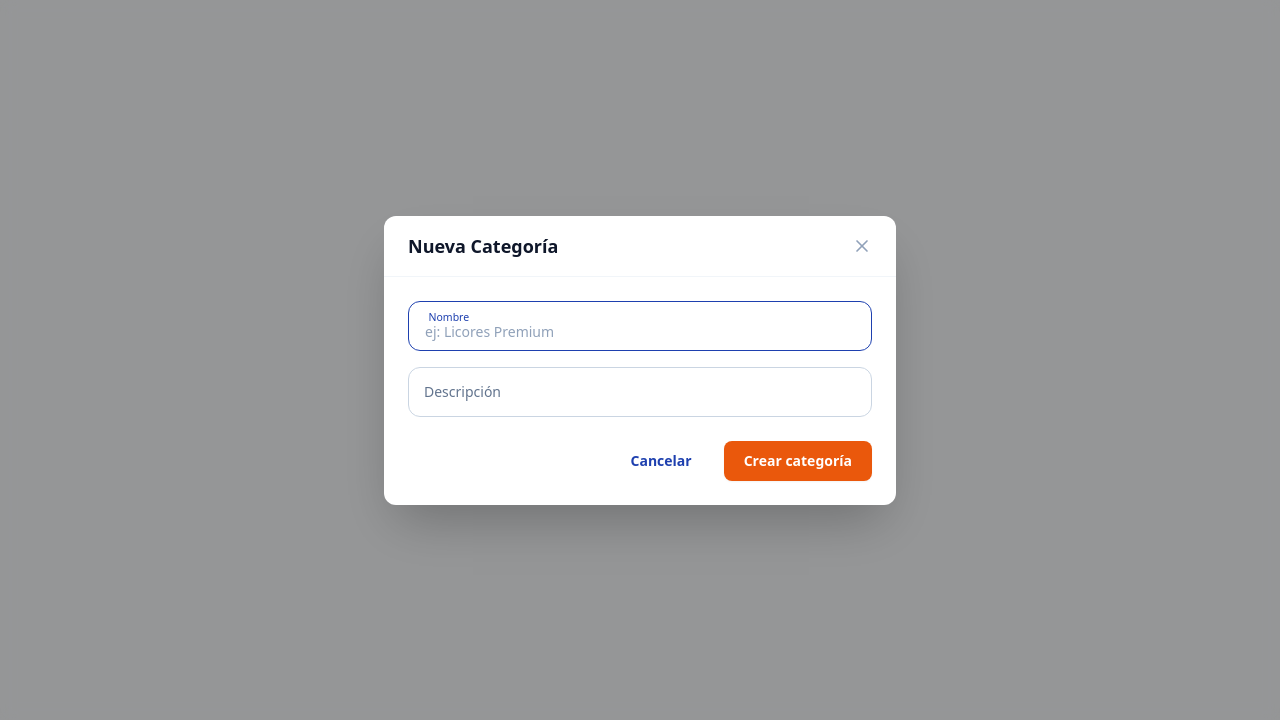
it: CreateCategoryModal › shows error on failure
Type "Test" into the field with placeholder "ej: Licores Premium" at (640, 326), box [408,300,872,350]
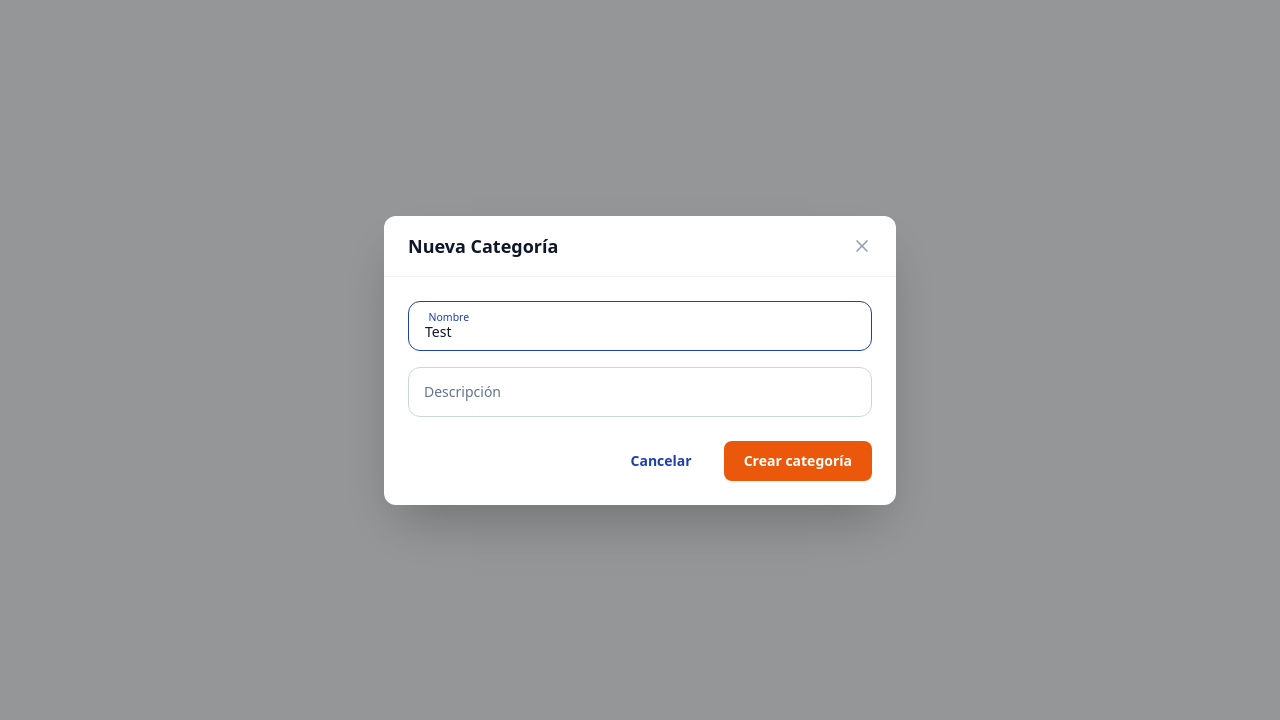
Click the button "Crear categoría" at (798, 460), box [724,440,872,480]
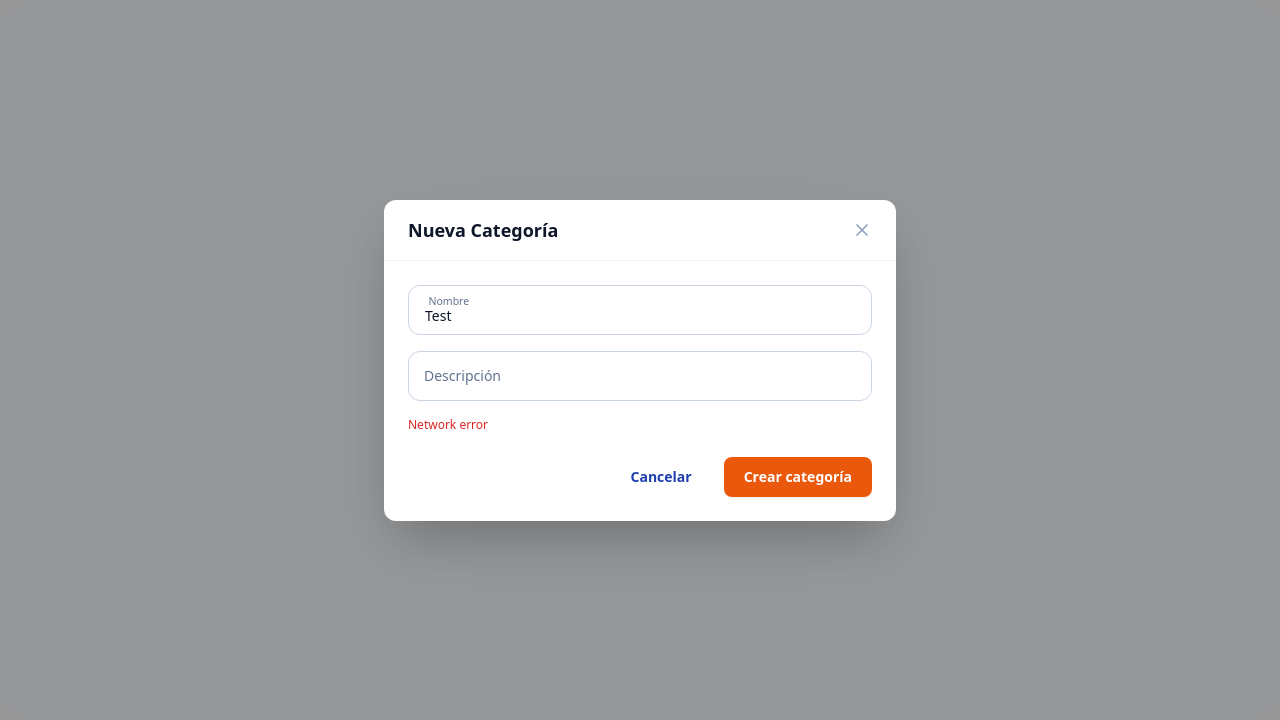
Expected: the text "Network error" is shown, [408,416,488,432]
